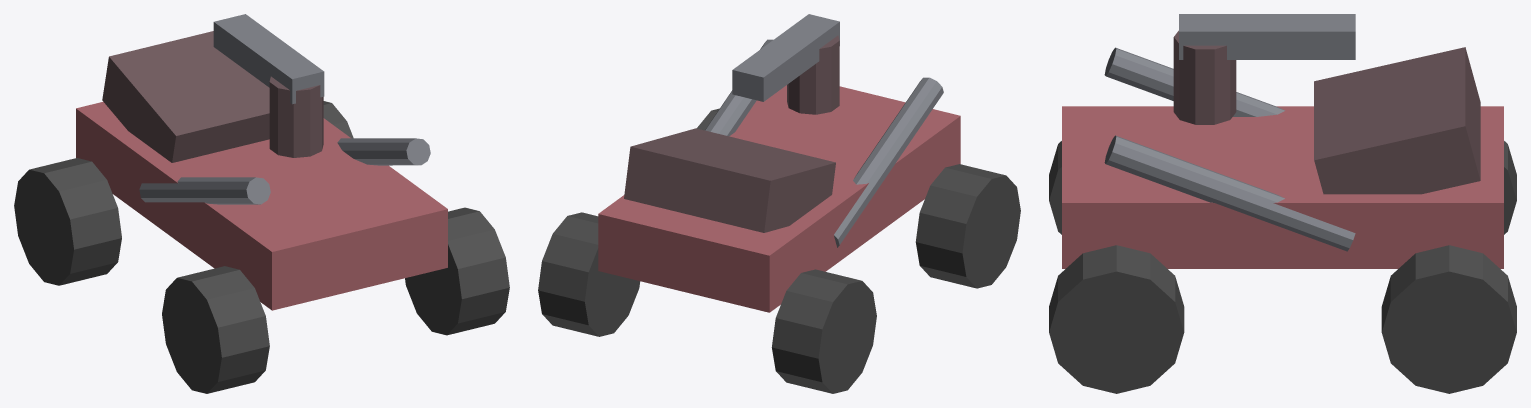
File: so_scout_buggy.glb
3 renders of one model, left to right at view 1: azimuth 30°, elevation 25°; view 2: azimuth 150°, elevation 25°; view 3: azimuth 270°, elevation 25°, orthographic. The views are drawn at different scales.
Parts seen in each view (by area): view 1: hull, turret; view 2: hull, turret; view 3: hull, turret.
Part boxes in pixels (box(x1,y1,x2,y2)): hull: box(14, 31, 509, 393); turret: box(213, 14, 324, 157); hull: box(538, 39, 1020, 393); turret: box(732, 14, 839, 114); hull: box(1049, 47, 1516, 393); turret: box(1173, 14, 1355, 124).
Bounding box in the file's own units: 0.72 × 0.62 × 0.9.
